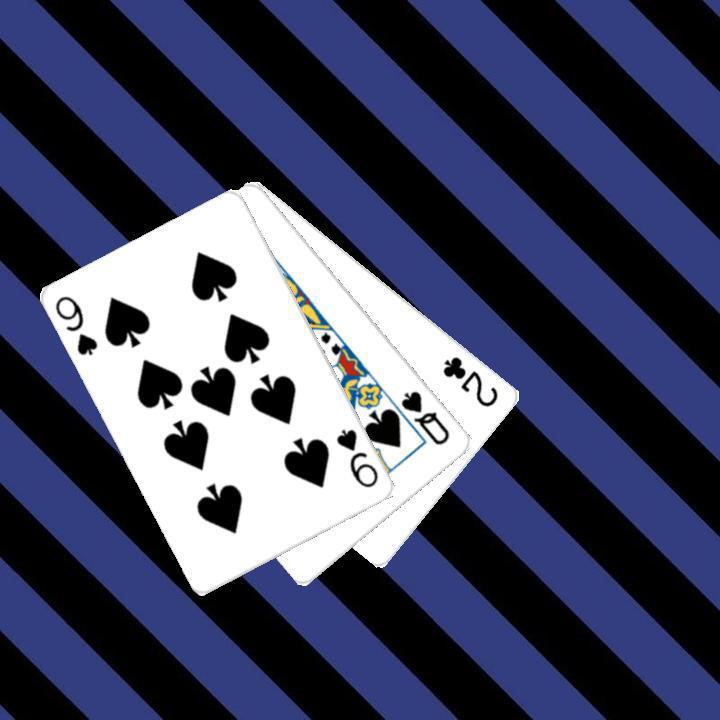2: (438, 351, 501, 410)
9: (51, 291, 101, 358), (332, 424, 381, 490)
Q: (397, 386, 453, 448)
